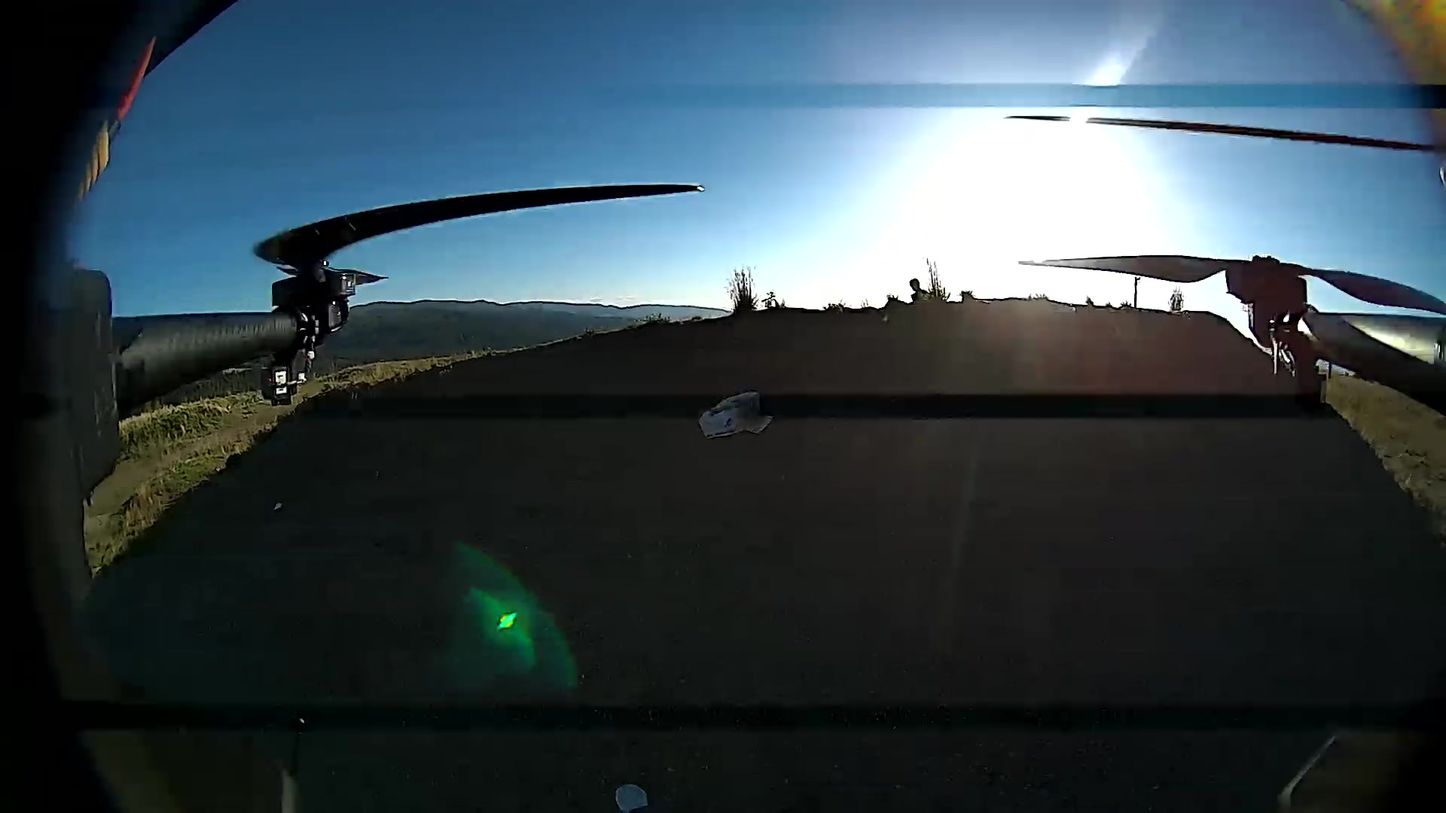Target: (615, 783, 649, 811)
